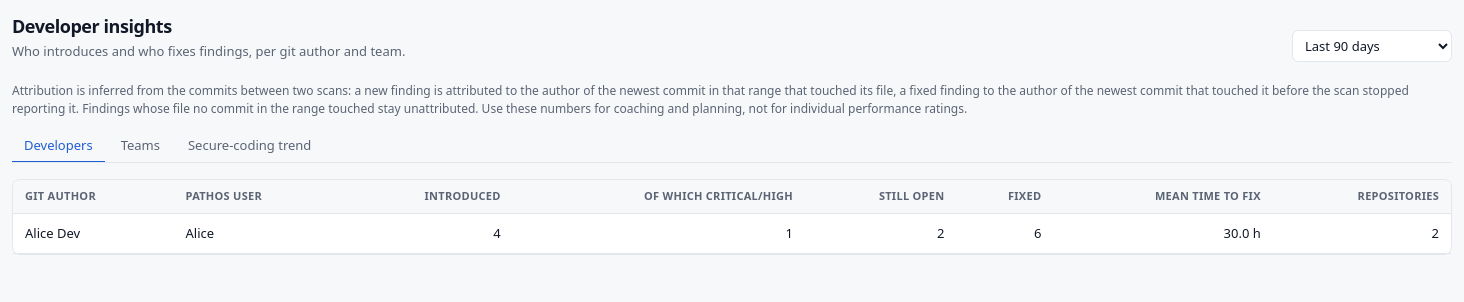
Test: developer insights › shows developers and teams
Expected: the text "Alice Dev" is shown, [13,213,174,254]
Expected: the text "30.0 h" is shown, [1053,213,1273,254]
Click the tab "Teams" at (140, 146), box [109,130,172,163]
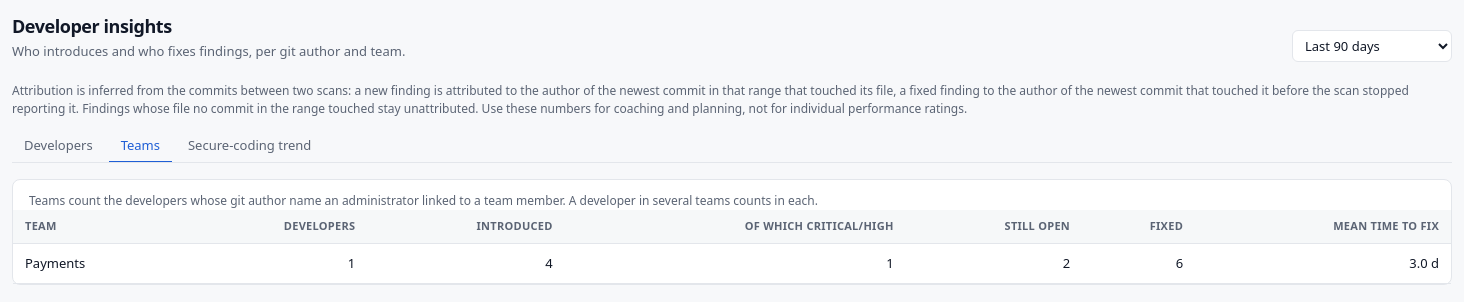
Expected: the text "Payments" is shown, [13,243,179,284]
Expected: the text "3.0 d" is shown, [1195,243,1451,284]
